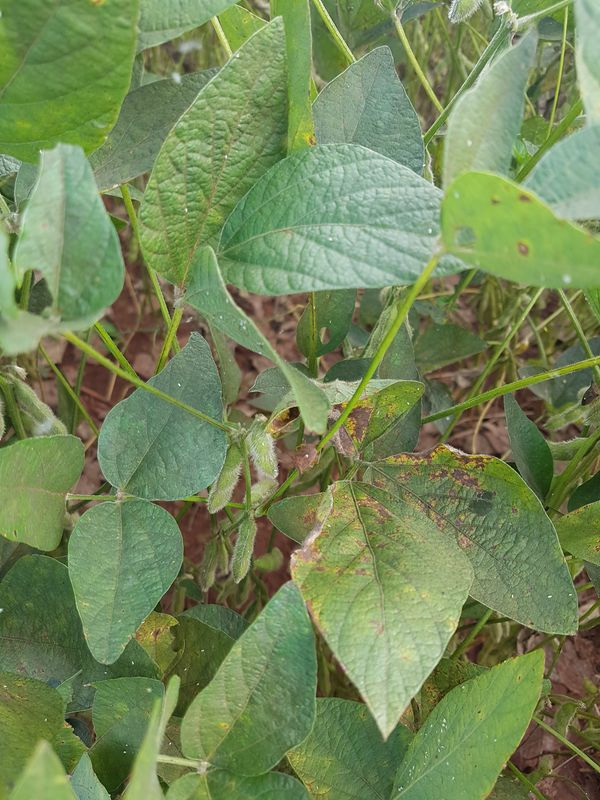Euschistus_heros_adulto: (285, 436, 326, 477)
